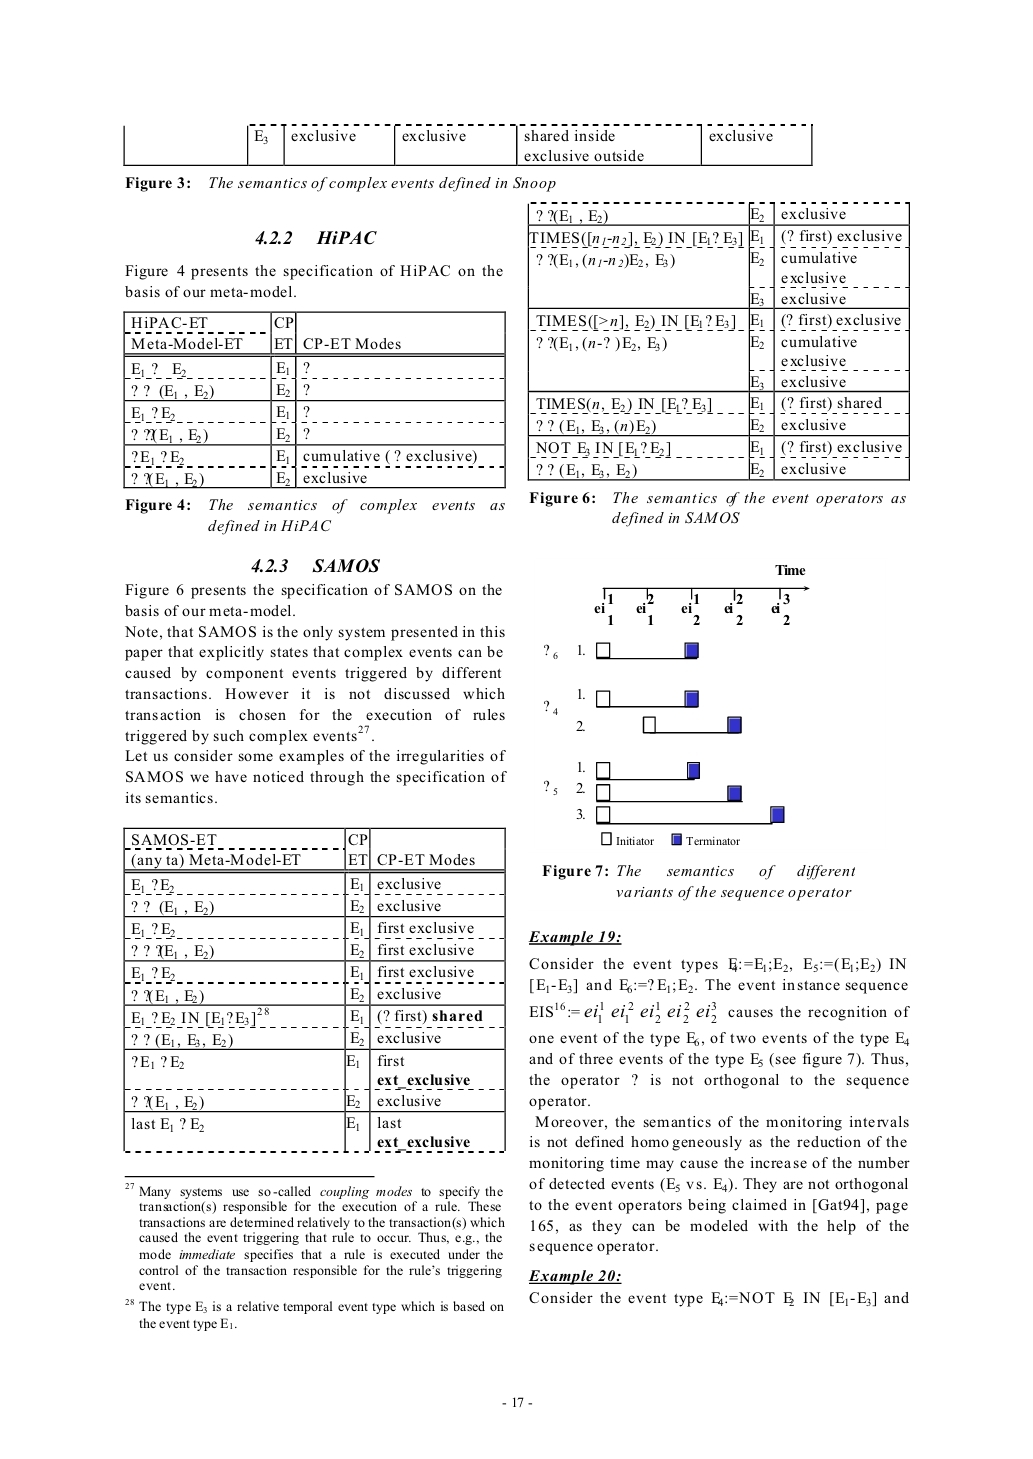Table: (123, 825, 505, 1153), (527, 201, 909, 481), (123, 310, 505, 489), (123, 122, 812, 165)
figure: (544, 565, 809, 845), (124, 1175, 375, 1178)
